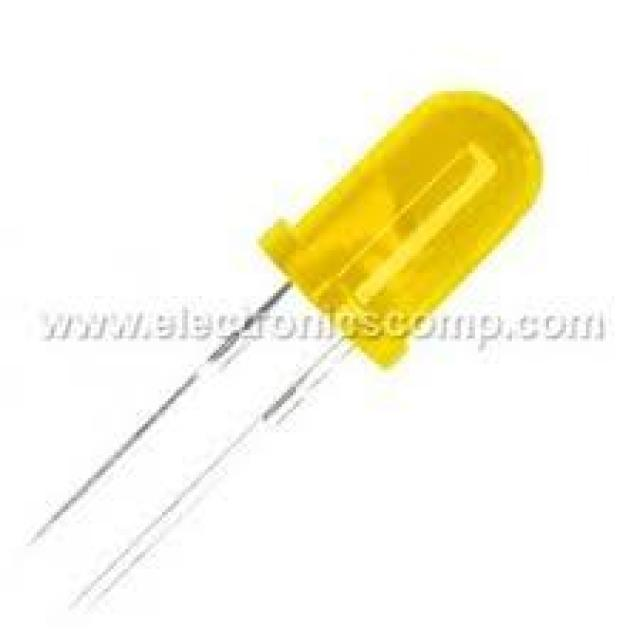Led: (40, 92, 541, 537)
